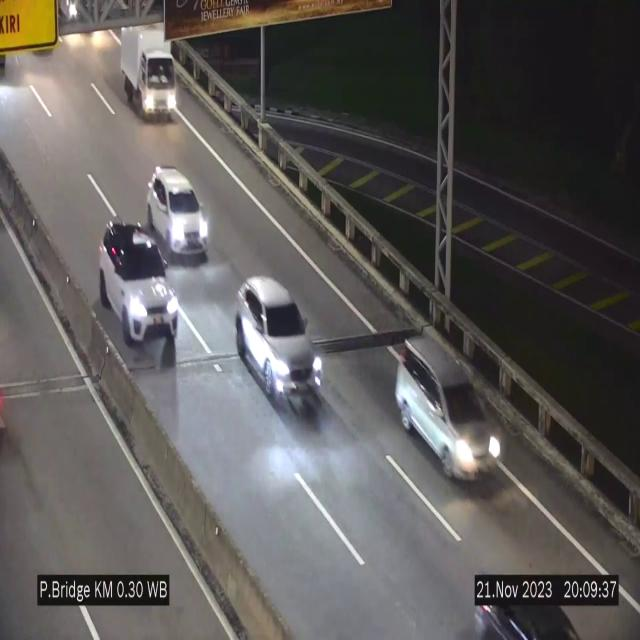Car: (392, 328, 503, 490), (235, 278, 322, 412), (99, 220, 177, 340), (473, 582, 579, 640), (147, 168, 209, 262)
Truck: (120, 23, 177, 122)
